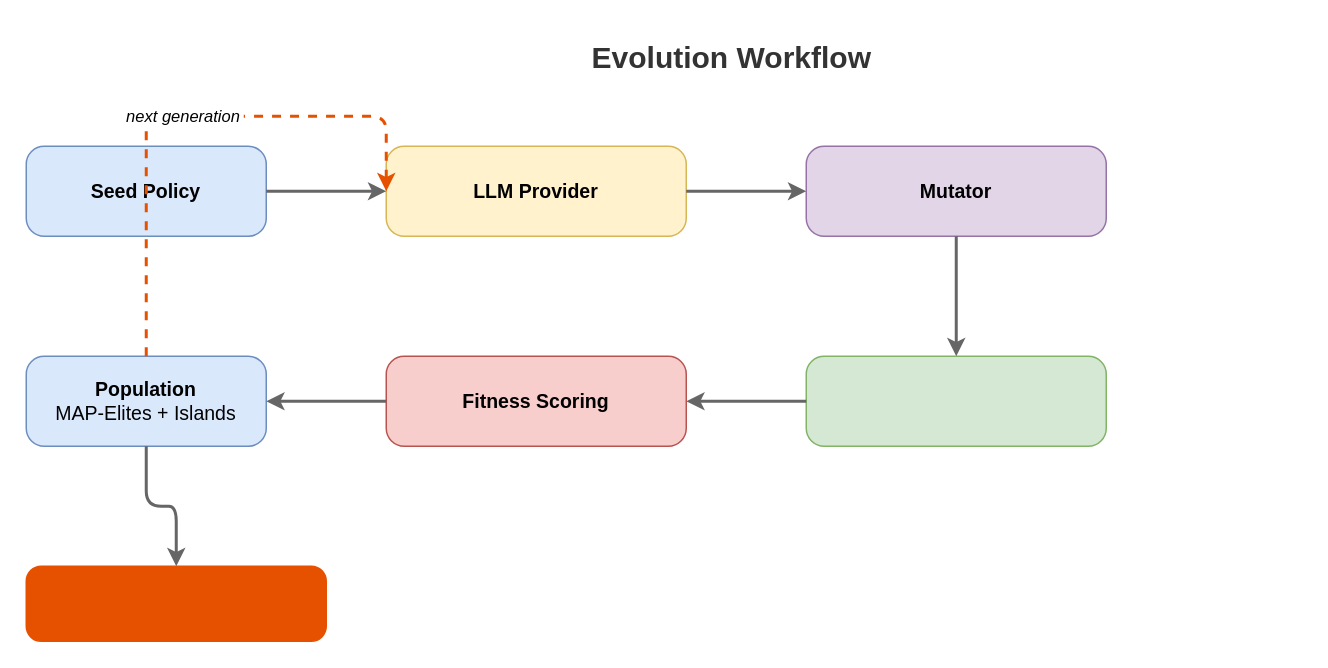
The diagram is 1328 pixels wide and 668 high, and some of its shapes have lost their labels. Here are the shapes that lost their labels. From the top down, the box of each, then its label:
(805, 355, 1106, 446): Evaluator Simulator / Live
(25, 565, 326, 641): Discovered Policies
